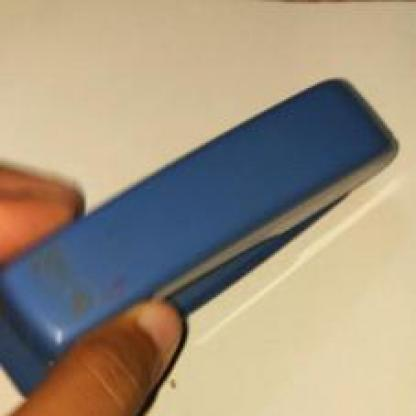stapler: (6, 53, 393, 399)
